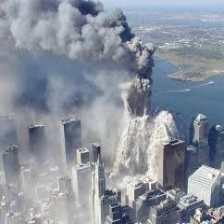smoke: (9, 1, 157, 93)
